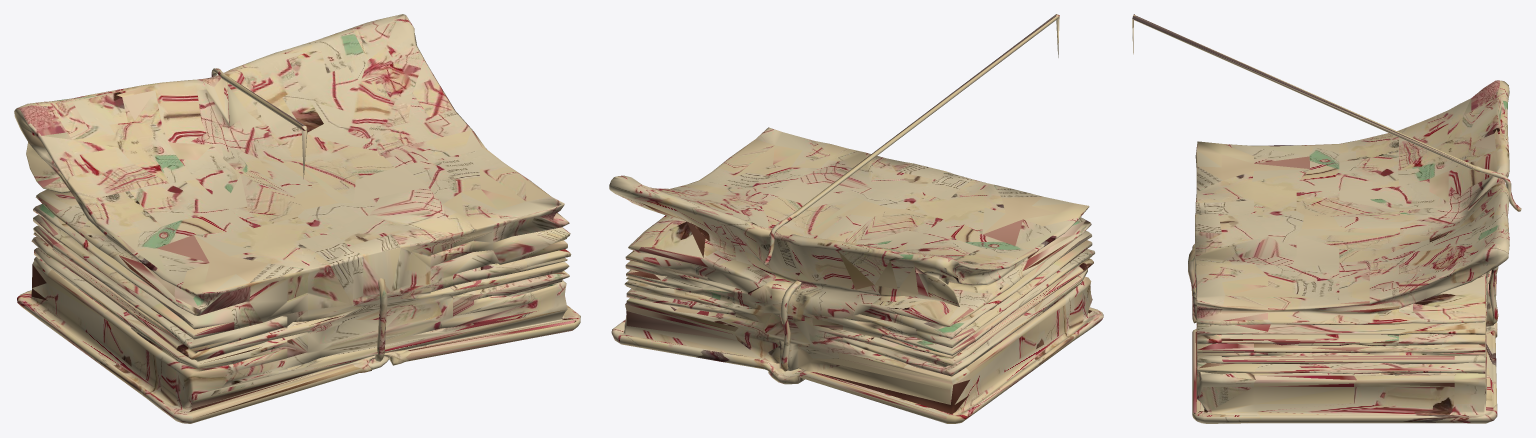
The model's file is registrosObjeto.fbx.
The picture shows the model from 3 angles, left to right: view 1: azimuth 30°, elevation 25°; view 2: azimuth 150°, elevation 25°; view 3: azimuth 270°, elevation 25°; orthographic projection. The views are drawn at different scales.
Parts seen in each view (by area): view 1: Mesh_0; view 2: Mesh_0; view 3: Mesh_0.
Boxes of the visible parts, bbox=[...] form: Mesh_0: bbox=[14, 14, 580, 423]; Mesh_0: bbox=[609, 14, 1103, 423]; Mesh_0: bbox=[1132, 14, 1521, 423].
Bounding box in the file's own units: 191 × 136 × 175.
